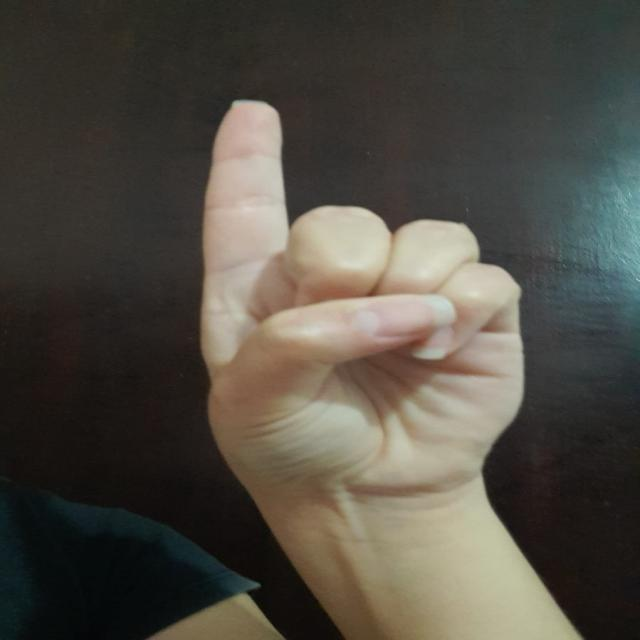D2: (178, 88, 545, 510)
